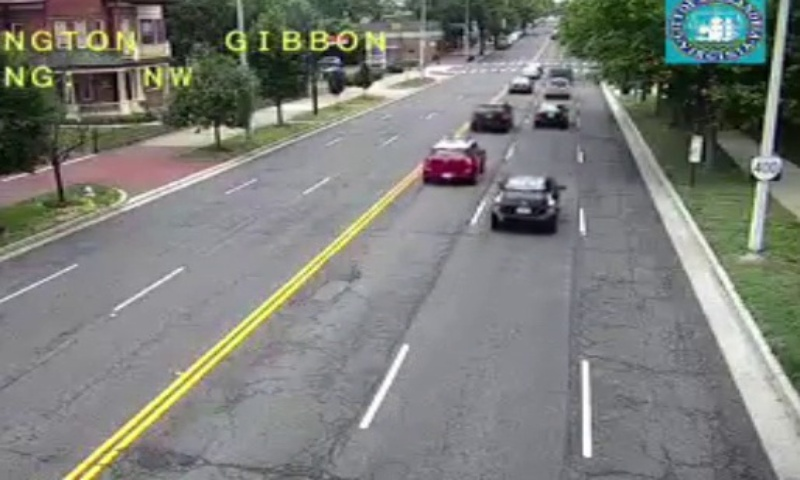car: (493, 176, 557, 224), (423, 141, 485, 182), (470, 102, 510, 131), (533, 104, 568, 126)
